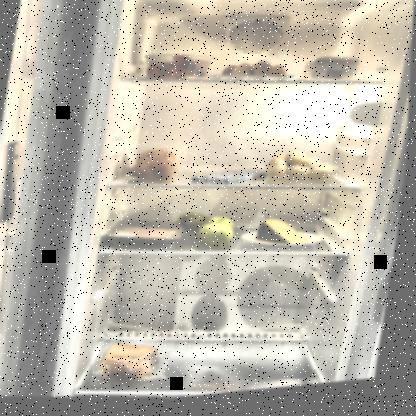apple: (173, 209, 243, 260)
cheese: (256, 219, 317, 255)
chicken: (104, 214, 189, 259)
chocolate: (190, 166, 271, 194)
eggs: (219, 58, 291, 92)
potato: (263, 150, 342, 192)
strawberries: (142, 52, 213, 90)
sweet_potato: (127, 143, 185, 189)
